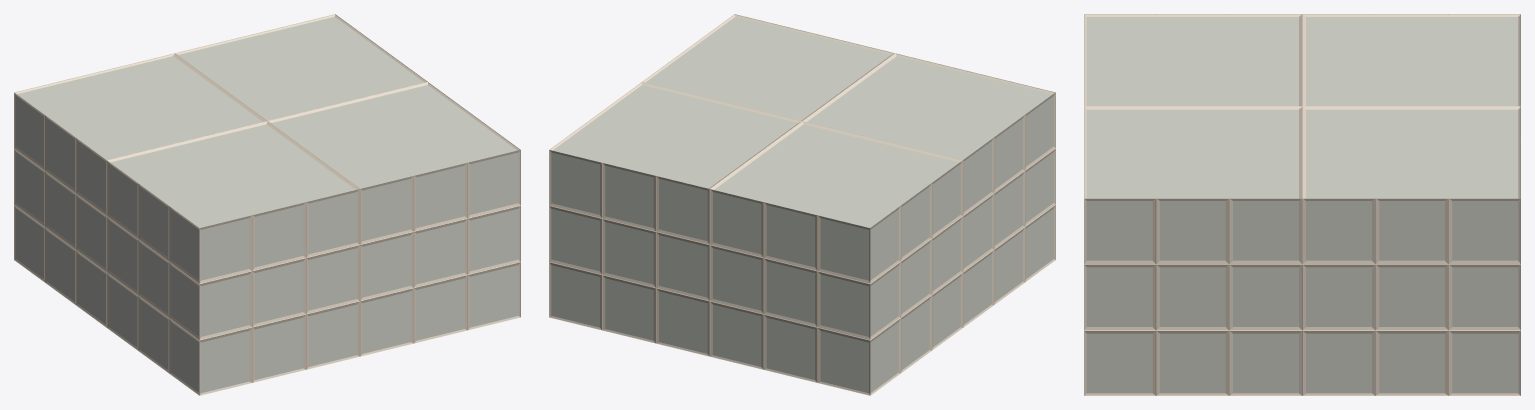
File: portal_room.glb
3 views of the same model, side by side, from view 1: azimuth 30°, elevation 25°; view 2: azimuth 150°, elevation 25°; view 3: azimuth 270°, elevation 25° (orthographic). The views are drawn at different scales.
Parts seen in each view (by area): view 1: Room; view 2: Room; view 3: Room.
Part boxes in pixels (box(x1,y1,x2,y2)): Room: box(14, 14, 520, 395); Room: box(549, 14, 1055, 395); Room: box(1084, 14, 1520, 395).
Size of what is drawn, in the model's own units: 5.97 by 3.49 by 5.97.
